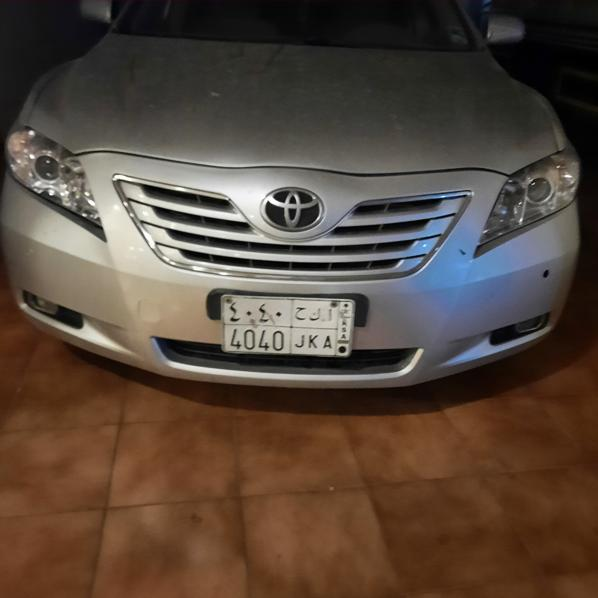numberplate: (223, 295, 351, 358)
